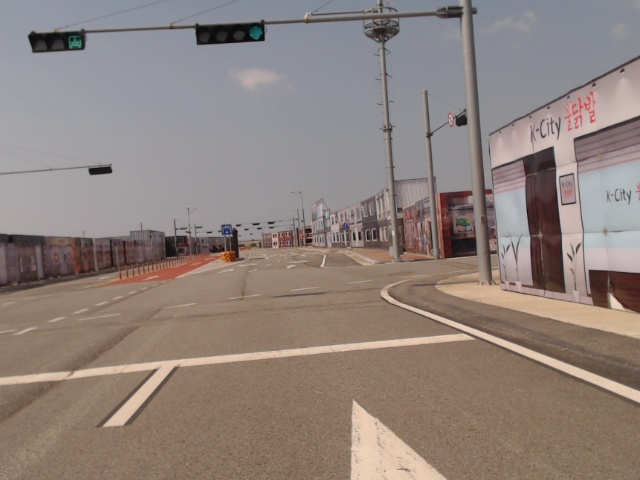straight_green_4: (196, 24, 265, 43)
